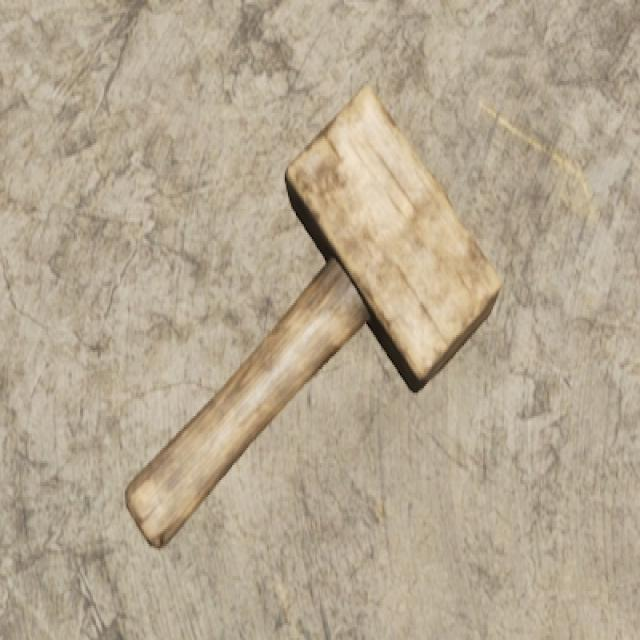hammer: (114, 72, 508, 557)
